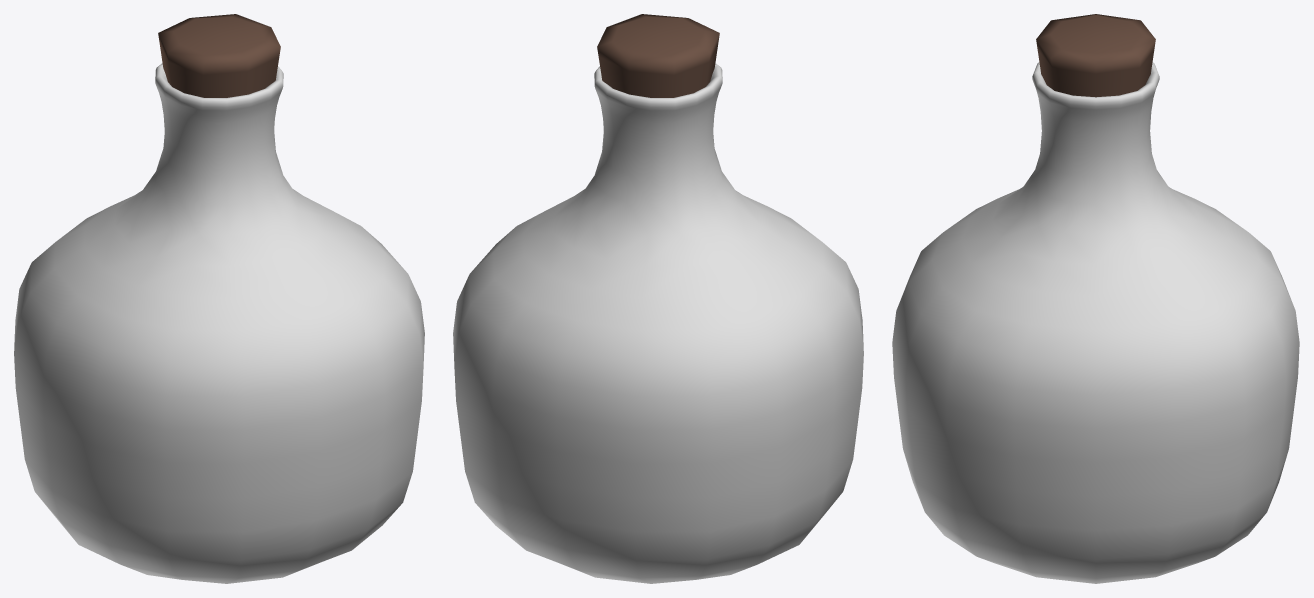
The model's file is SM_Potion2_Filled.fbx.
3 renders of one model, left to right at view 1: azimuth 30°, elevation 25°; view 2: azimuth 150°, elevation 25°; view 3: azimuth 270°, elevation 25°, orthographic.
Visible parts, largest first — view 1: SM_Potion2_Filled; view 2: SM_Potion2_Filled; view 3: SM_Potion2_Filled.
Boxes of the visible parts, x1,y1,x2,y2 form: SM_Potion2_Filled: [14, 14, 424, 583]; SM_Potion2_Filled: [453, 14, 863, 583]; SM_Potion2_Filled: [892, 14, 1299, 583].
Size of the model in its own units: 87.68 by 122 by 87.68.
